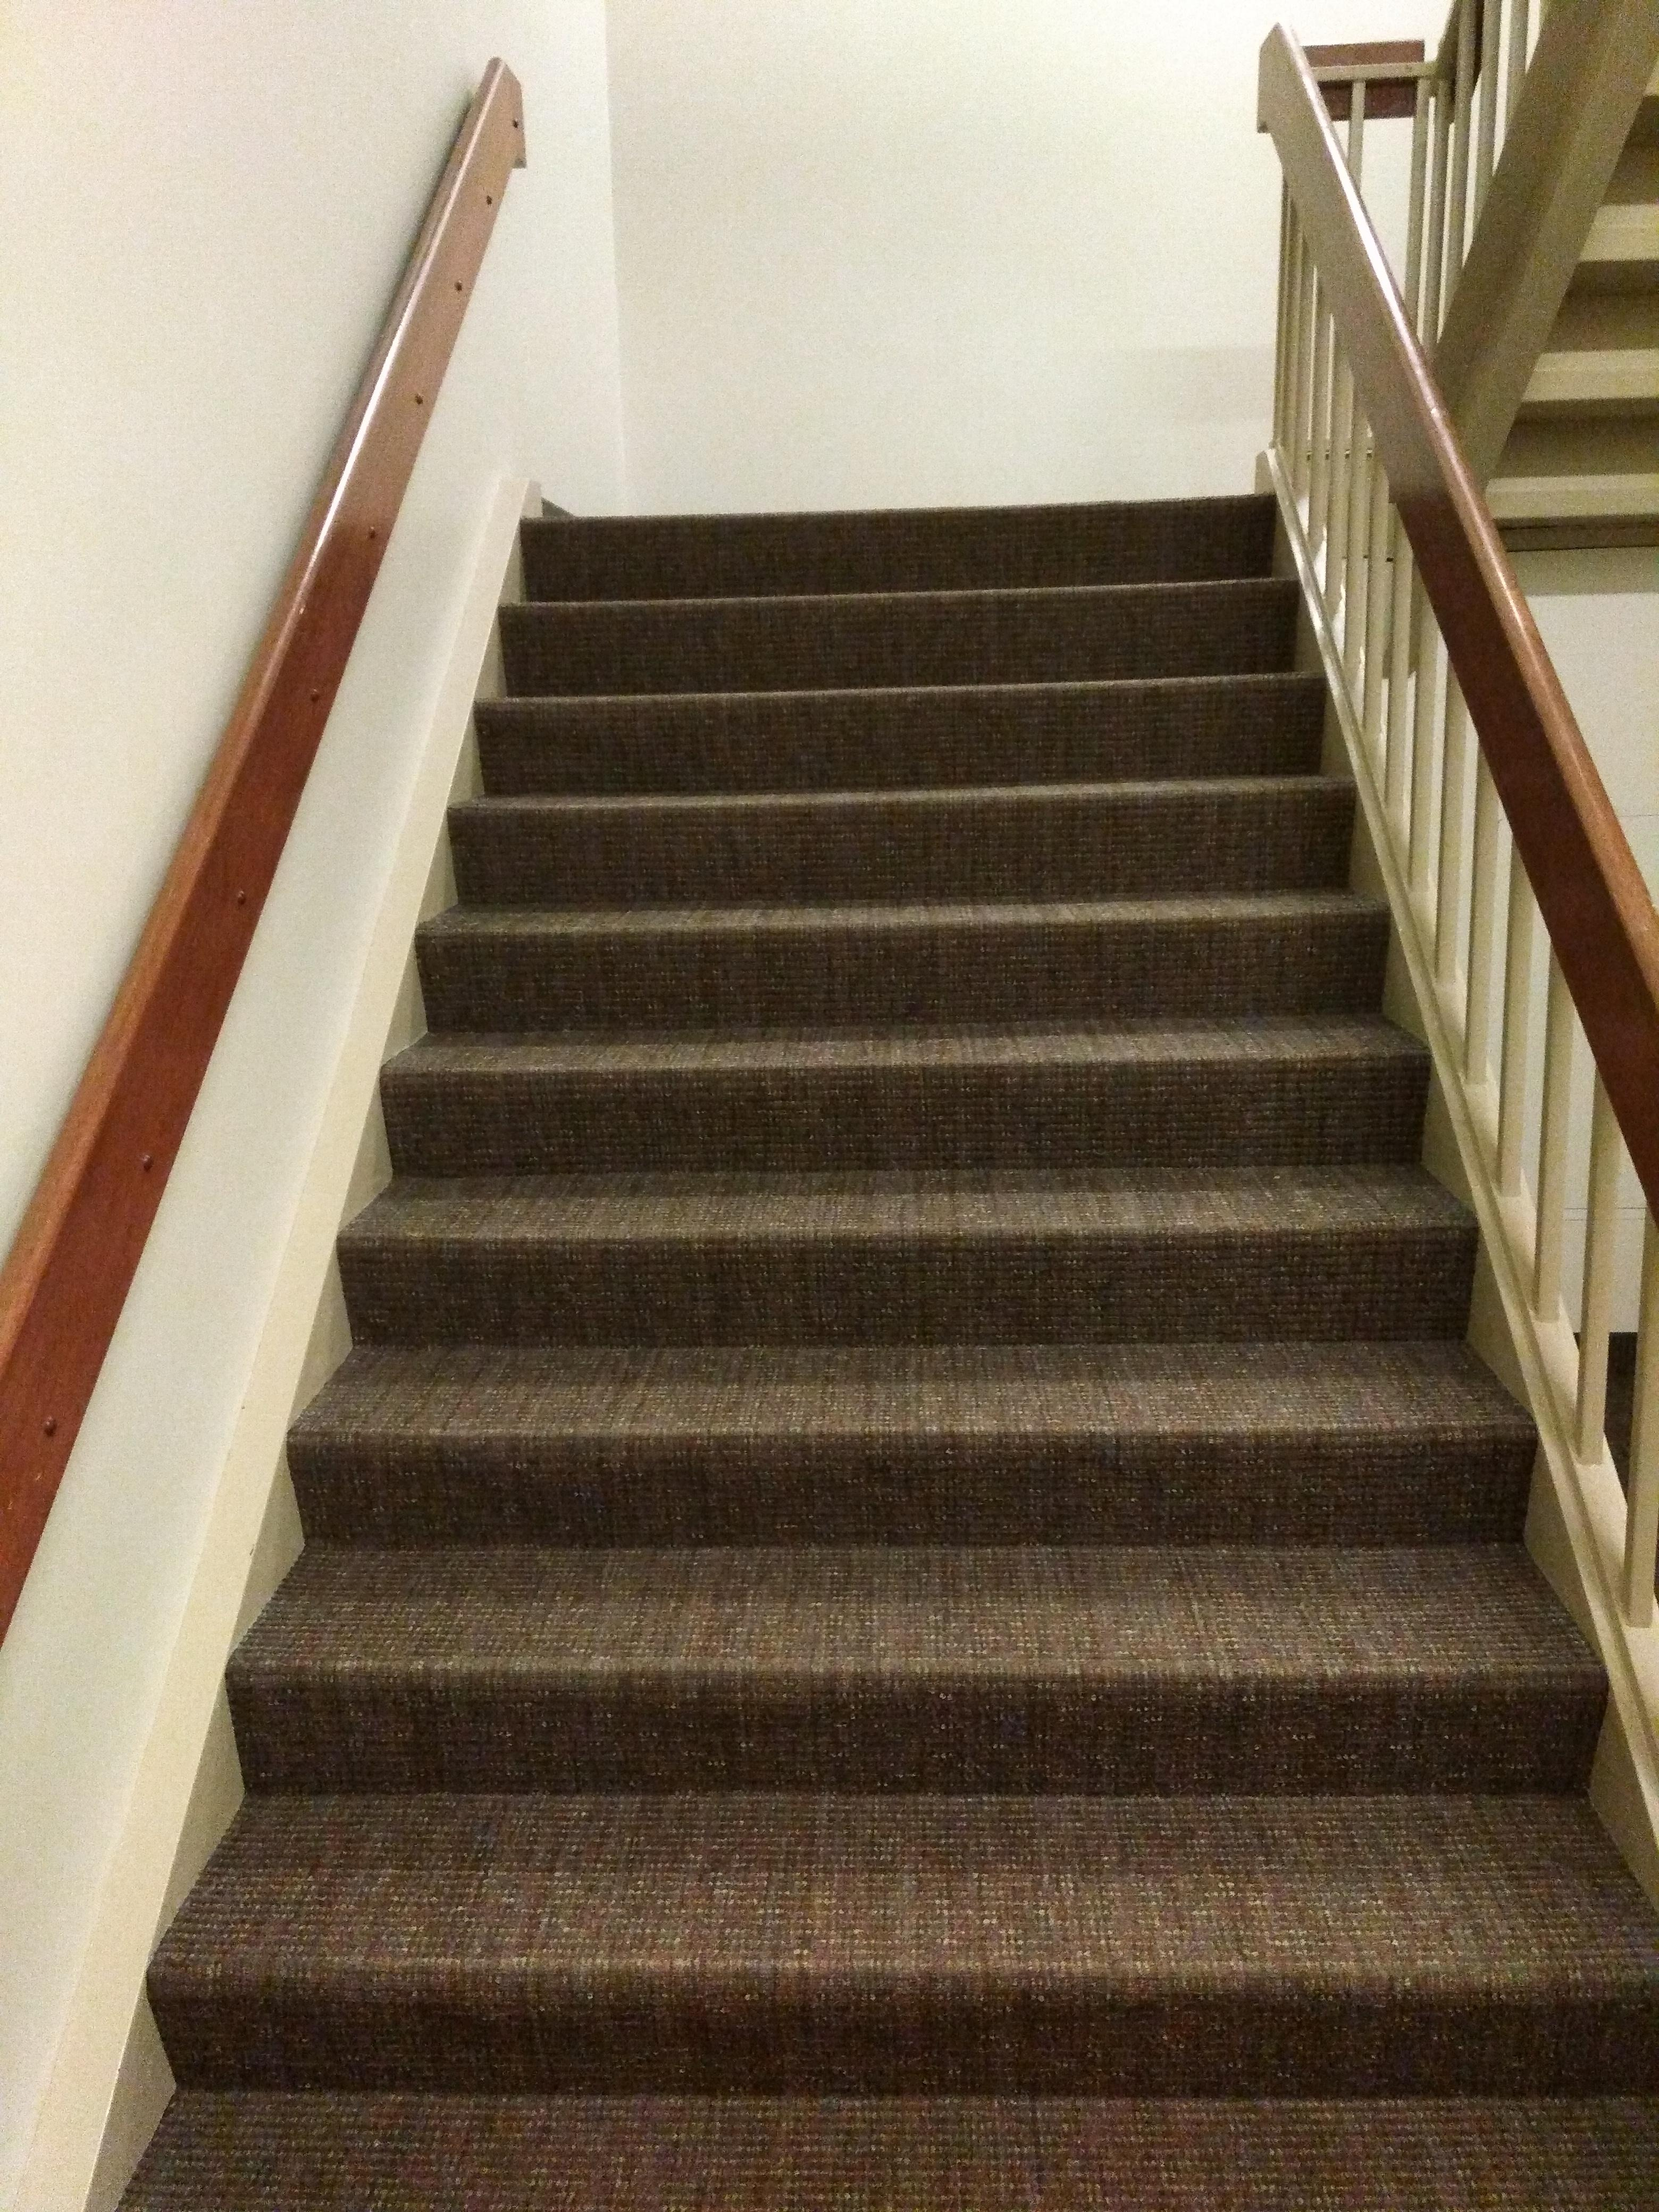stairs_up: (153, 474, 1659, 2095)
